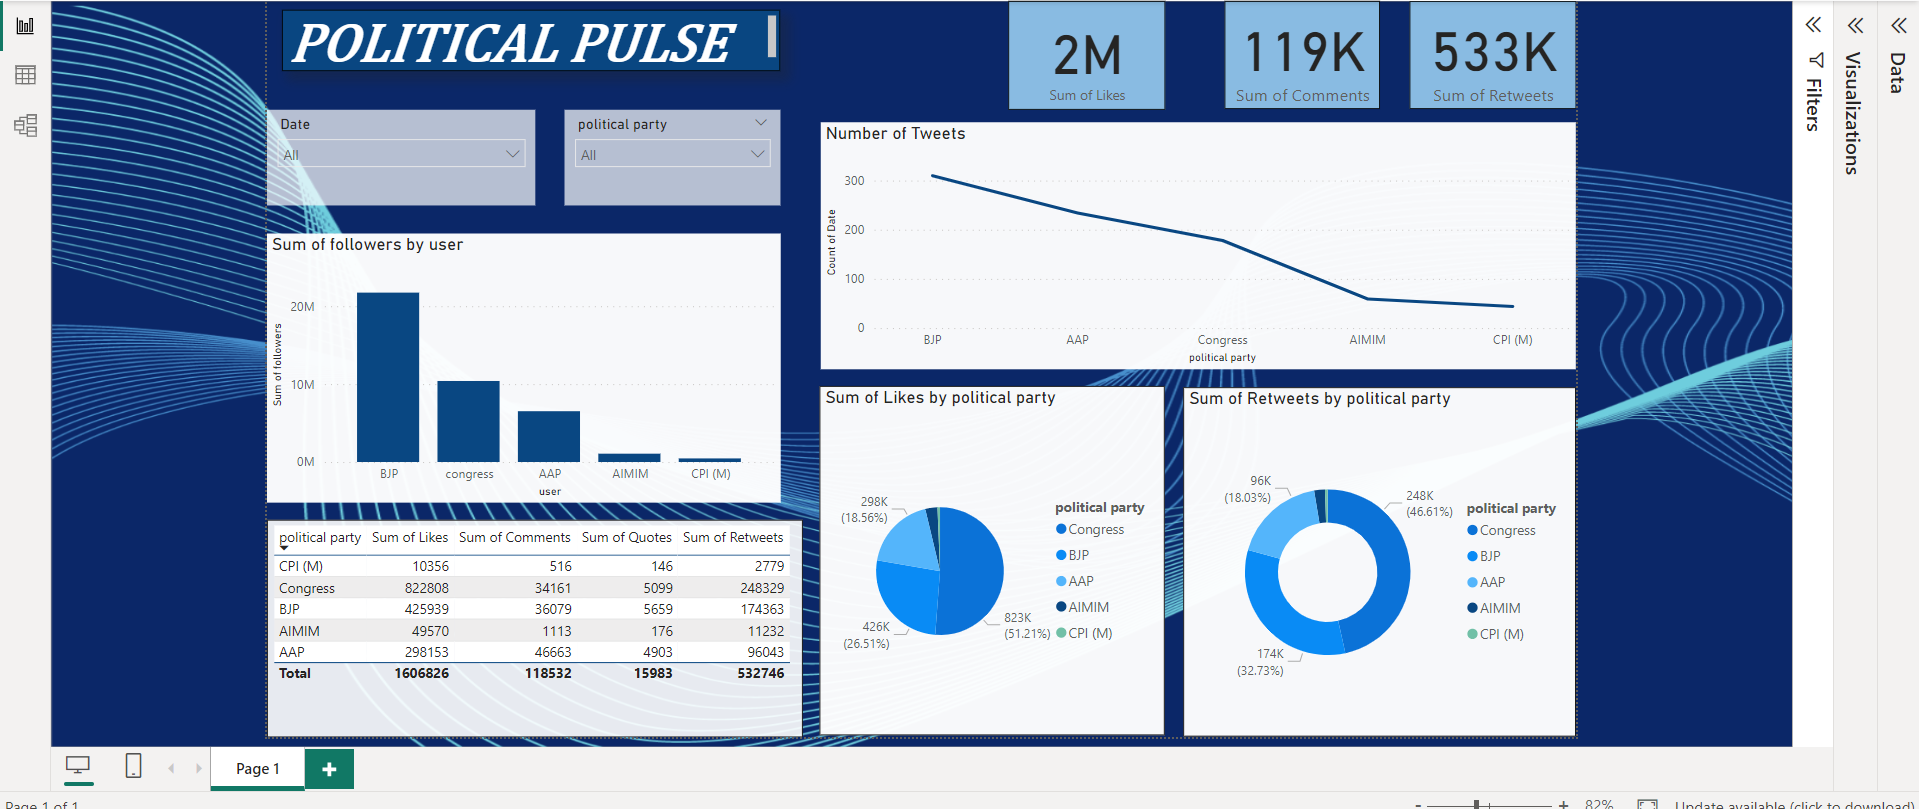

The dashboard page shown, as its layout file describes it:
{"tool":"powerbi","page":{"name":"Page 1","canvas":[1280,720],"ordinal":0},"visuals":[{"type":"slicer","fields":{"Values":["power (2).political party"]},"box":[291.2,106.2,211.2,93.8],"z":0},{"type":"slicer","fields":{"Values":["power (2).Date"]},"box":[0,106.2,262.5,93.8],"z":1000},{"type":"textbox","box":[15,8.8,487.5,60],"z":2000},{"type":"tableEx","fields":{"Values":["power (2).political party","Sum(power (2).Likes)","Sum(power (2).Comments)","Sum(power (2).Quotes)","Sum(power (2).Retweets)"]},"box":[0,507.5,523.8,212.5],"z":3000},{"type":"pieChart","fields":{"Category":["power (2).political party"],"Y":["Sum(power (2).Likes)"]},"box":[540.7,376,337.6,341.7],"z":4000},{"type":"donutChart","fields":{"Category":["power (2).political party"],"Y":["Sum(power (2).Retweets)"]},"box":[895.7,377.1,384.3,341.4],"z":5000},{"type":"card","fields":{"Values":["Sum(power (2).Likes)"]},"box":[725,0,153.8,106.2],"z":6000},{"type":"card","fields":{"Values":["Sum(power (2).Comments)"]},"box":[935.9,0,152.3,105.7],"z":7000},{"type":"card","fields":{"Values":["Sum(power (2).Retweets)"]},"box":[1117,0,163.3,105.7],"z":8000},{"type":"lineChart","title":"Number of Tweets","fields":{"Category":["power (2).political party"],"Y":["CountNonNull(power (2).Date)"]},"box":[541.2,118.8,738.8,241.2],"z":9000},{"type":"clusteredColumnChart","fields":{"Category":["Sheet1.user"],"Y":["Sum(Sheet1.followers)"]},"box":[0,227.8,502.2,263.5],"z":10000}]}

Visuals, with their boxes on the page's 1280x720 design canvas (x1, y1, x2, y2). These are canvas units, not pixel positions in the 1919x809 screenshot, which may show the page scaled, cropped or inside an application window:
slicer - power (2).political party: 291, 106, 502, 200
slicer - power (2).Date: 0, 106, 262, 200
textbox: 15, 9, 502, 69
tableEx - power (2).political party x Sum(power (2).Likes): 0, 508, 524, 720
pieChart - power (2).political party x Sum(power (2).Likes): 541, 376, 878, 718
donutChart - power (2).political party x Sum(power (2).Retweets): 896, 377, 1280, 718
card - Sum(power (2).Likes): 725, 0, 879, 106
card - Sum(power (2).Comments): 936, 0, 1088, 106
card - Sum(power (2).Retweets): 1117, 0, 1280, 106
"Number of Tweets" lineChart: 541, 119, 1280, 360
clusteredColumnChart - Sheet1.user x Sum(Sheet1.followers): 0, 228, 502, 491
